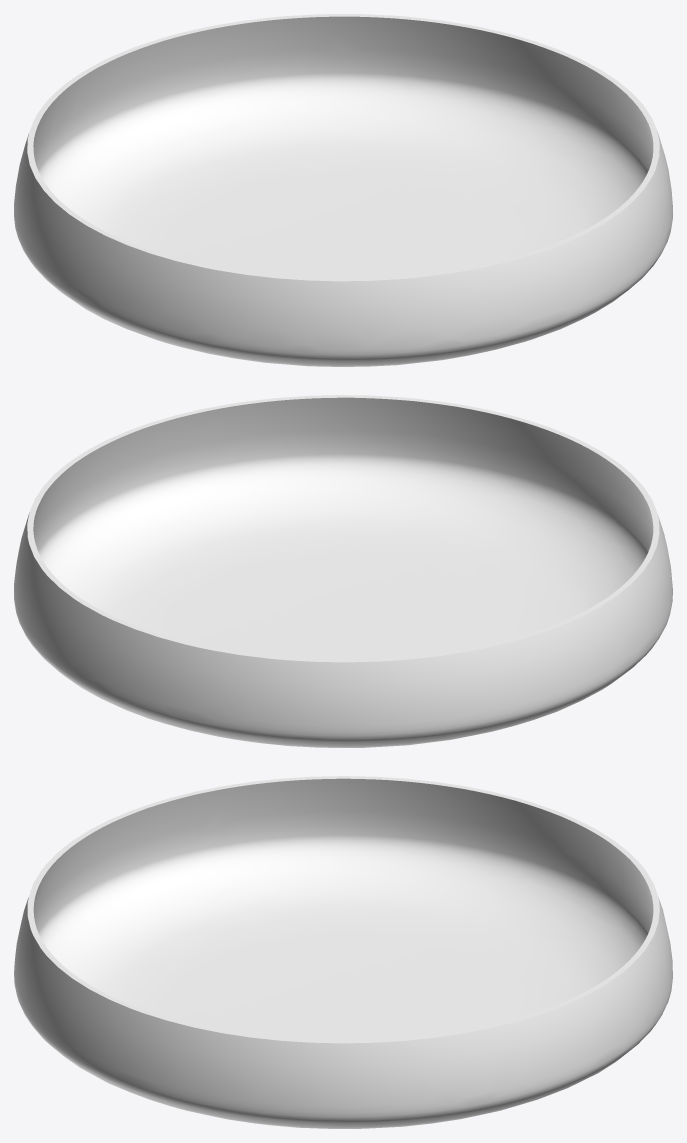
3 views of the same model, one above another, from view 1: azimuth 30°, elevation 25°; view 2: azimuth 150°, elevation 25°; view 3: azimuth 270°, elevation 25° (orthographic).
Visible parts, largest first — view 1: model; view 2: model; view 3: model.
Part boxes in pixels (left/top/right/bottom): model: left=14, top=14, right=672, bottom=366; model: left=14, top=395, right=672, bottom=747; model: left=14, top=776, right=672, bottom=1128.
Bounding box in the file's own units: 0.261 × 0.0497 × 0.261.
1 material, 1 textured.
